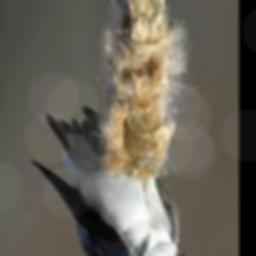Swallow: (31, 108, 189, 256)
